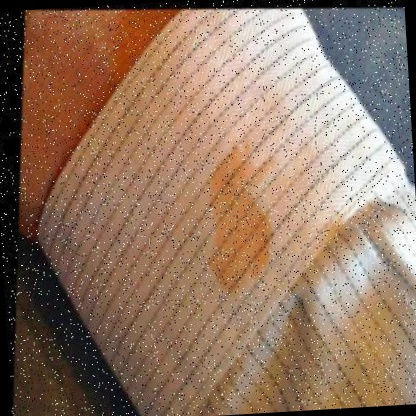kimchi: (194, 139, 297, 299)
